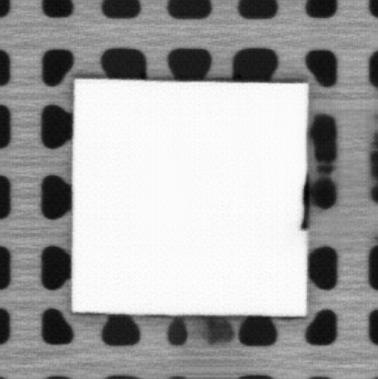DIE_BROKEN: (299, 173, 310, 230)
